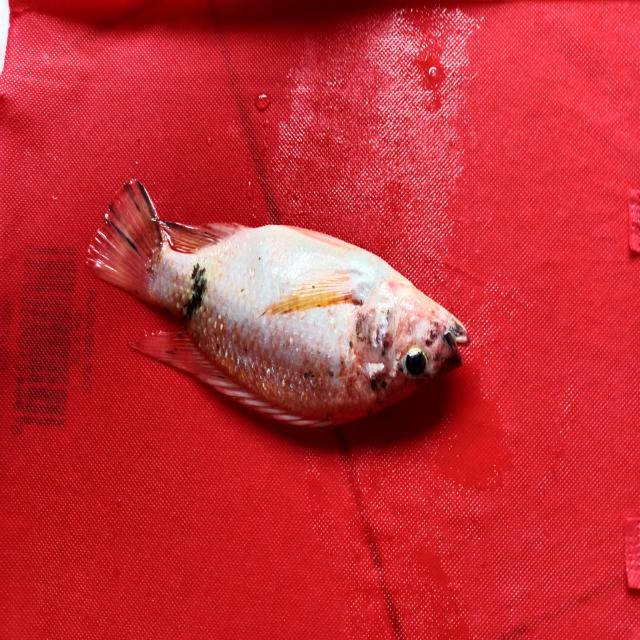ikan: (75, 162, 477, 453)
